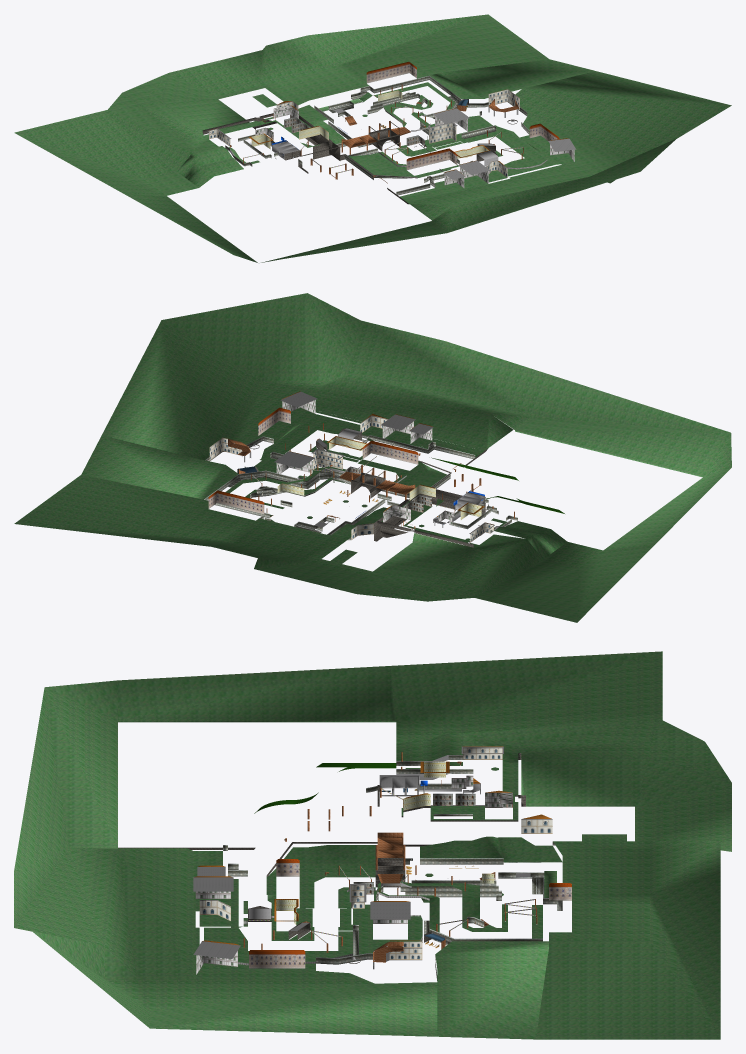
Rendered from course.glb.
3 views of the same model, one above another, from view 1: azimuth 30°, elevation 25°; view 2: azimuth 150°, elevation 25°; view 3: azimuth 270°, elevation 25° (orthographic). The views are drawn at different scales.
Parts seen in each view (by area): view 1: polygon1, polygon18, polygon23, polygon0, polygon28, polygon14, polygon24, polygon9, polygon17, polygon30; view 2: polygon1, polygon18, polygon23, polygon0, polygon28, polygon14, polygon9, polygon24, polygon17; view 3: polygon1, polygon18, polygon23, polygon14, polygon24, polygon28, polygon0, polygon9, polygon17, polygon29, polygon7, polygon30.
Part boxes in pixels (x1,y1,x2,y2): polygon1: (14, 14, 731, 262); polygon18: (225, 75, 529, 195); polygon23: (208, 106, 576, 179); polygon0: (202, 100, 517, 203); polygon28: (366, 61, 559, 170); polygon14: (209, 89, 519, 177); polygon24: (230, 84, 523, 183); polygon9: (255, 104, 574, 187); polygon17: (251, 90, 488, 158); polygon30: (284, 117, 424, 147); polygon1: (14, 293, 731, 622); polygon18: (204, 435, 517, 540); polygon23: (234, 391, 501, 536); polygon0: (248, 428, 488, 547); polygon28: (208, 407, 418, 514); polygon14: (209, 415, 493, 542); polygon9: (276, 400, 454, 525); polygon24: (228, 423, 514, 529); polygon17: (277, 437, 481, 519); polygon1: (14, 651, 731, 1039); polygon18: (223, 755, 562, 980); polygon23: (193, 746, 530, 969); polygon14: (199, 747, 552, 960); polygon24: (243, 752, 537, 962); polygon28: (249, 859, 571, 968); polygon0: (118, 753, 525, 963); polygon9: (195, 775, 512, 974); polygon17: (276, 761, 494, 924); polygon29: (194, 746, 551, 945); polygon7: (254, 763, 396, 813); polygon30: (353, 793, 475, 894).
Bounding box in the file's own units: 1346 × 124 × 1011.
Materials: 34 (34 with a texture image).
